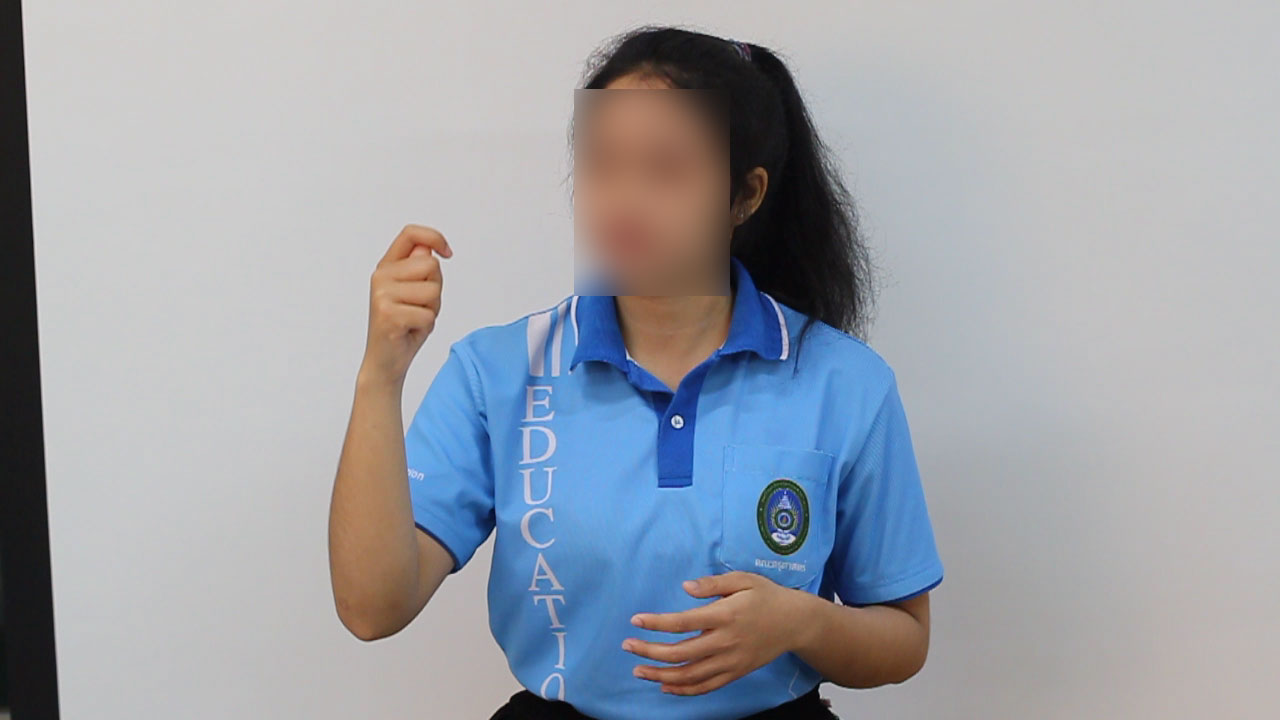or: (365, 208, 456, 385)
